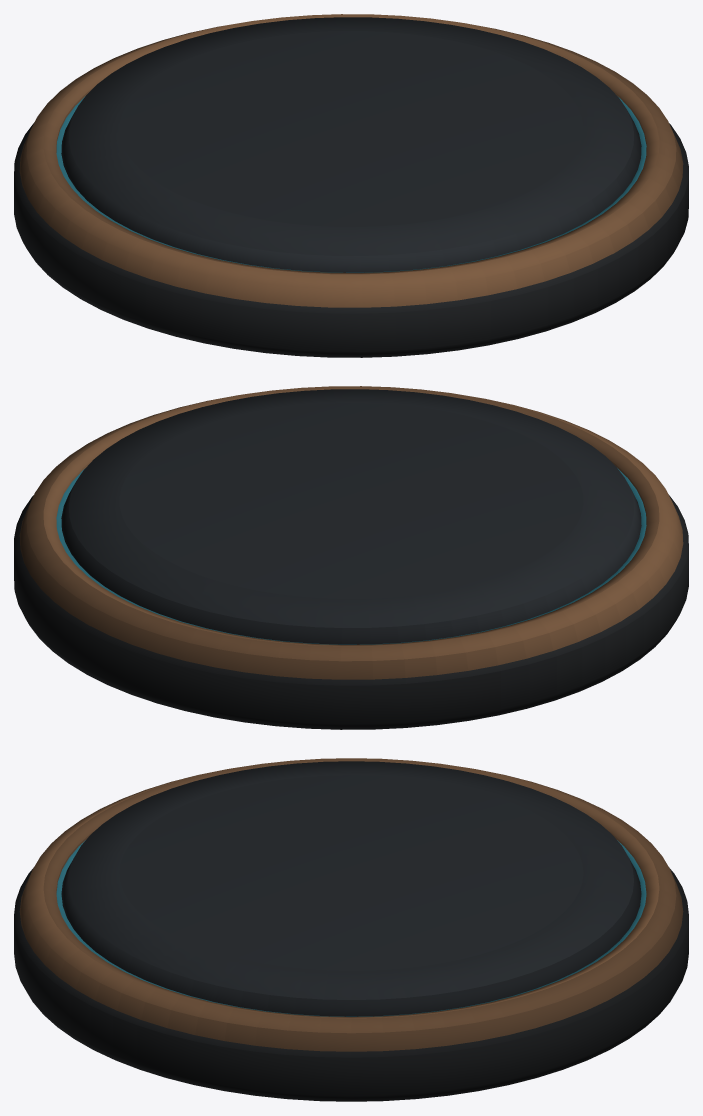
File: mandegar_touch_button.glb
The picture shows the model from 3 angles, top to bottom: view 1: azimuth 30°, elevation 25°; view 2: azimuth 150°, elevation 25°; view 3: azimuth 270°, elevation 25°; orthographic projection.
Visible parts, largest first — view 1: touch_button_cap, touch_button_collar, touch_button_base, touch_button_ring; view 2: touch_button_cap, touch_button_collar, touch_button_base, touch_button_ring; view 3: touch_button_cap, touch_button_collar, touch_button_base, touch_button_ring.
Part boxes in pixels (<box>): touch_button_cap: <box>61,17,641,272</box>; touch_button_collar: <box>19,14,683,307</box>; touch_button_base: <box>14,122,688,357</box>; touch_button_ring: <box>56,96,646,272</box>; touch_button_cap: <box>61,389,641,644</box>; touch_button_collar: <box>19,386,683,679</box>; touch_button_base: <box>14,494,688,729</box>; touch_button_ring: <box>56,468,646,644</box>; touch_button_cap: <box>61,761,641,1016</box>; touch_button_collar: <box>19,758,683,1051</box>; touch_button_base: <box>14,867,688,1101</box>; touch_button_ring: <box>56,840,646,1016</box>.
Bounding box in the file's own units: 0.16 × 0.023 × 0.16.
